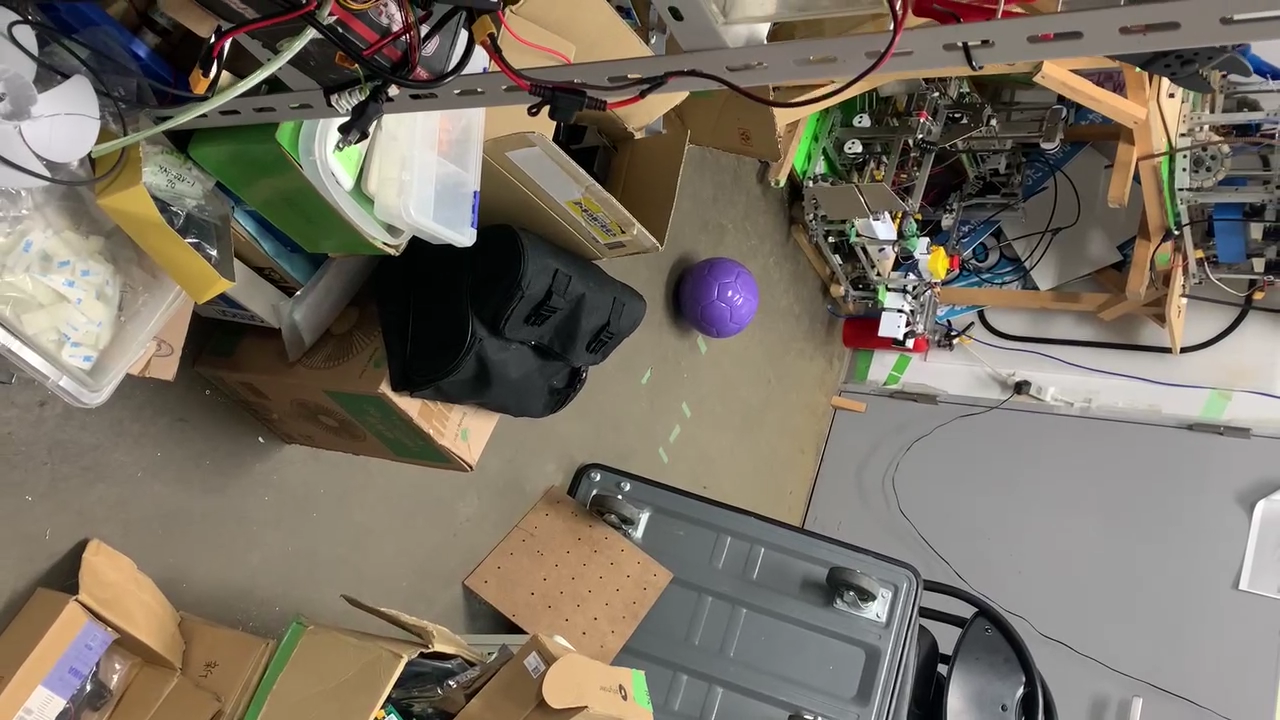purple: (673, 260, 758, 338)
